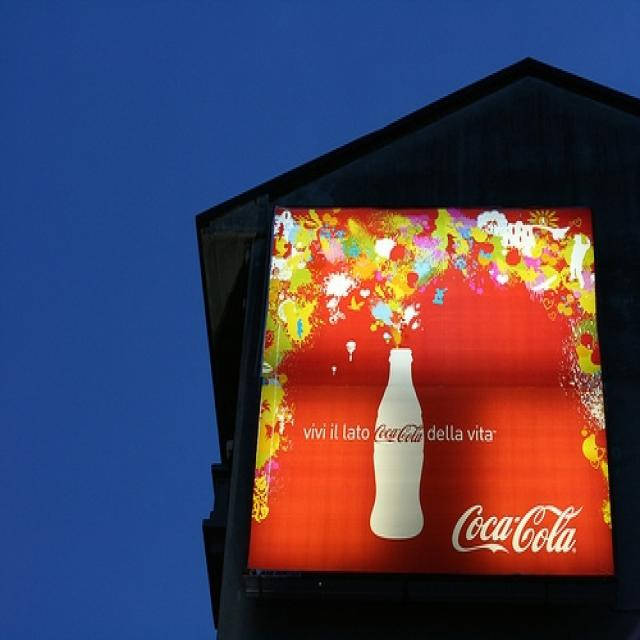cocacola: (443, 497, 598, 568), (374, 418, 429, 449)
